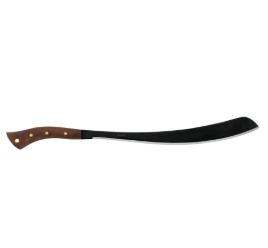MACHETTE: (0, 107, 264, 162)
